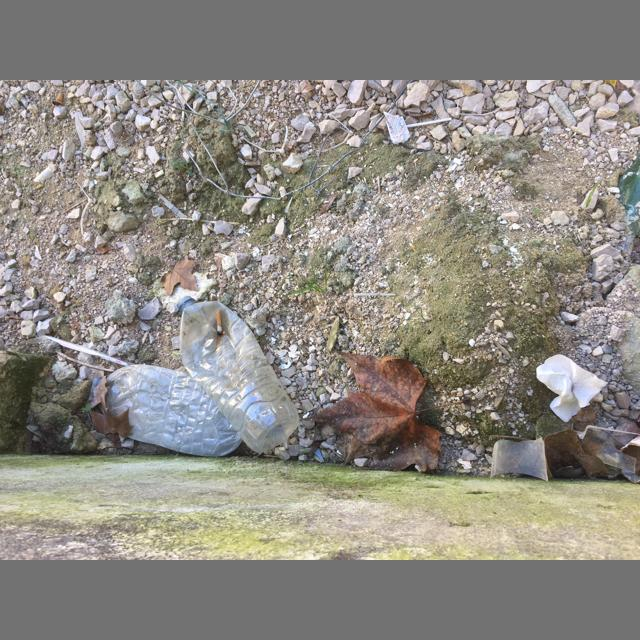litter: (177, 296, 300, 453), (90, 364, 243, 457), (536, 354, 609, 422), (571, 423, 640, 474), (43, 336, 133, 366), (490, 437, 549, 482), (316, 114, 354, 152), (242, 125, 288, 154), (455, 98, 510, 116), (76, 182, 93, 236), (384, 111, 410, 145), (406, 117, 452, 127), (215, 311, 222, 335)
